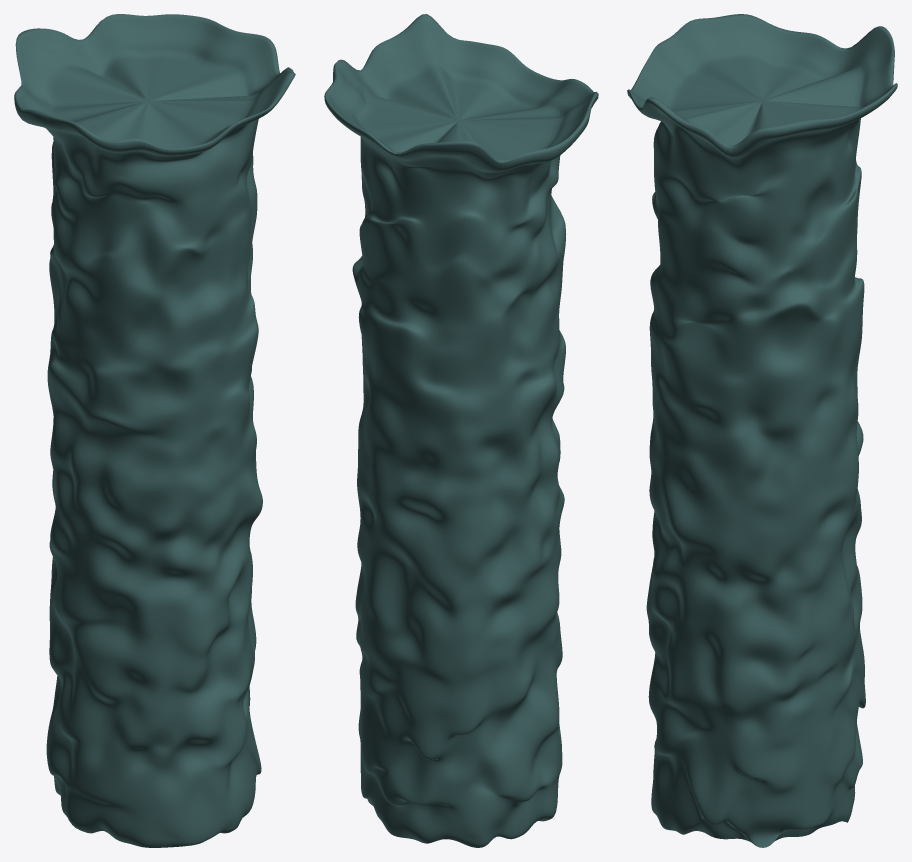
File: agua 2.fbx
3 renders of one model, left to right at view 1: azimuth 30°, elevation 25°; view 2: azimuth 150°, elevation 25°; view 3: azimuth 270°, elevation 25°, orthographic. The views are drawn at different scales.
Parts seen in each view (by area): view 1: pCylinder1; view 2: pCylinder1; view 3: pCylinder1.
Part boxes in pixels (x1,y1,x2,y2): pCylinder1: [14, 14, 295, 847]; pCylinder1: [324, 14, 598, 847]; pCylinder1: [627, 14, 897, 847].
Size of the model in its own units: 3.23 by 9.38 by 3.04.
